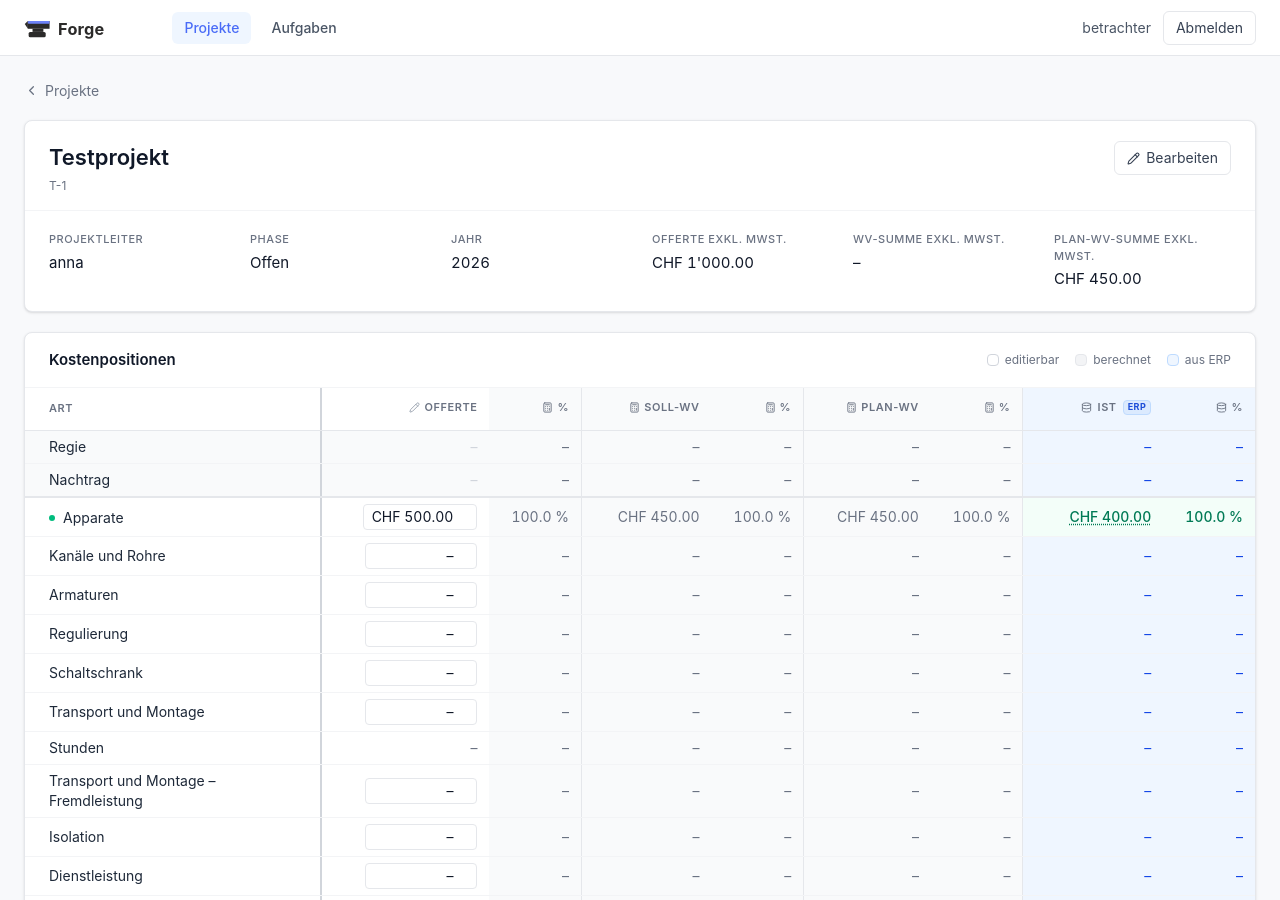
Test: ProjektDetailPage – Kopf speichern › sendet für geleerte optionale Felder explizit null
This screenshot has width=1280, height=900.
Click the button "Bearbeiten" at [1173, 158], box [1114,141,1231,175]
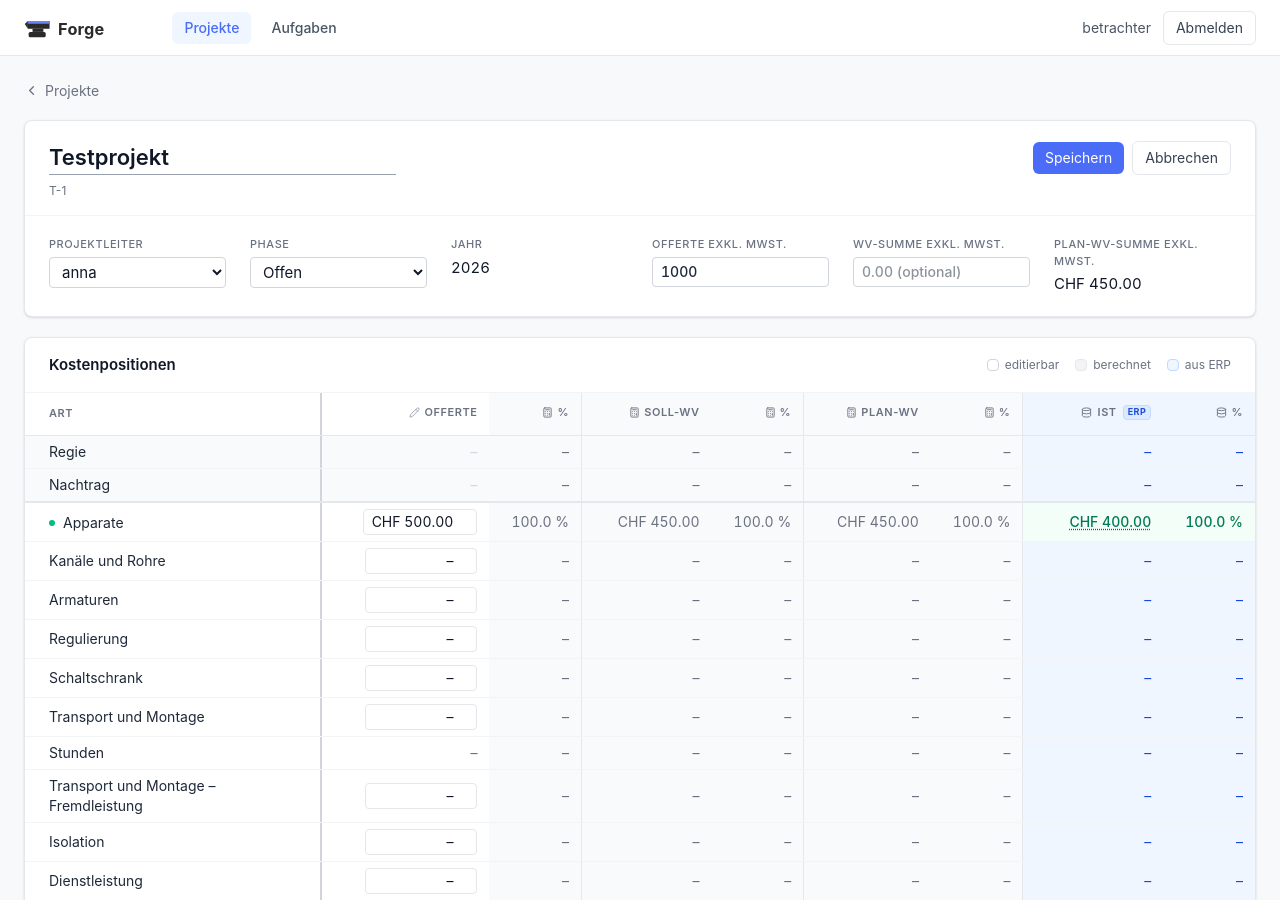
Select "– kein –" in the dropdown showing "anna" below "Projektleiter" at [138, 272], box [49,256,226,288]
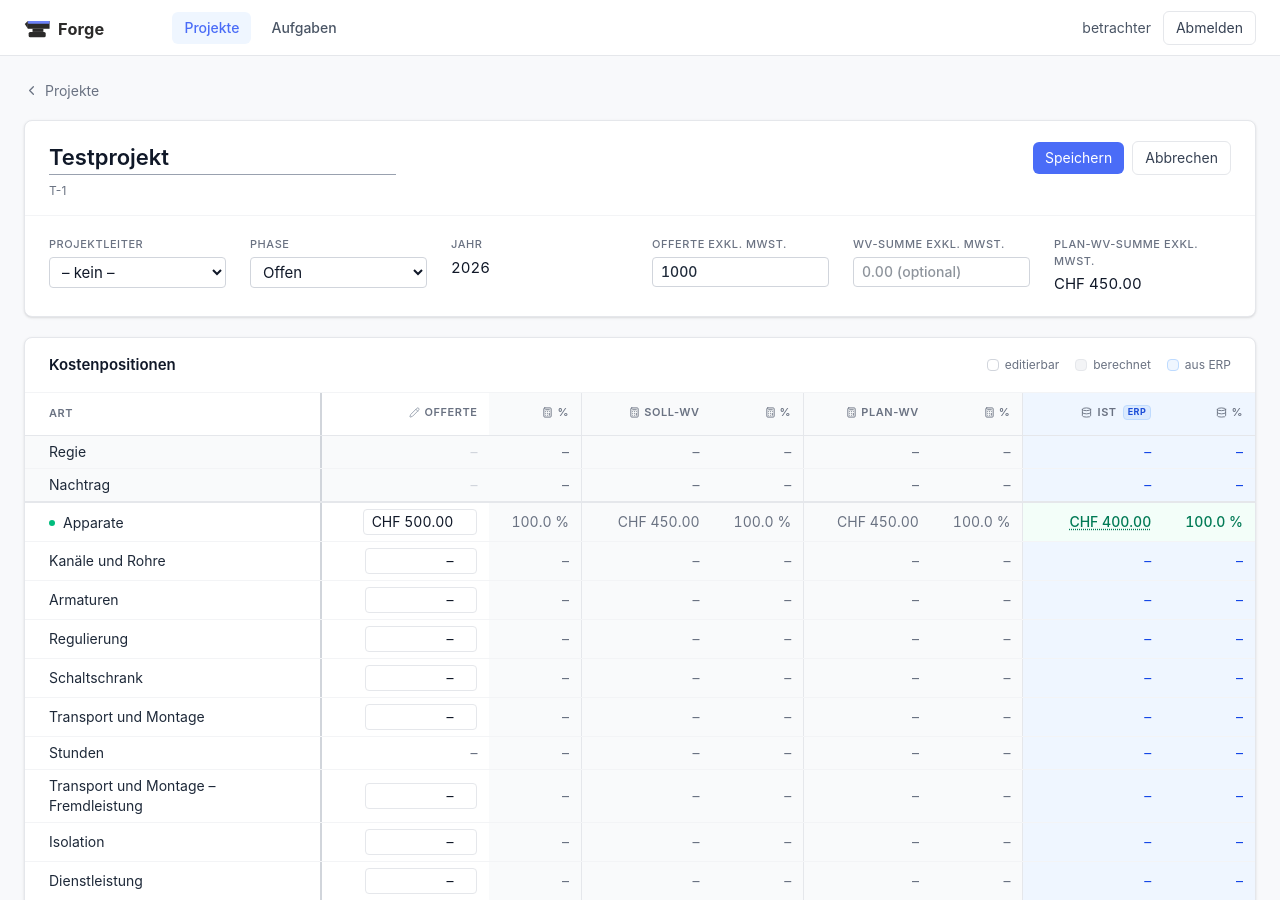
Click the button "Speichern" at [1079, 158], box [1033,142,1124,174]
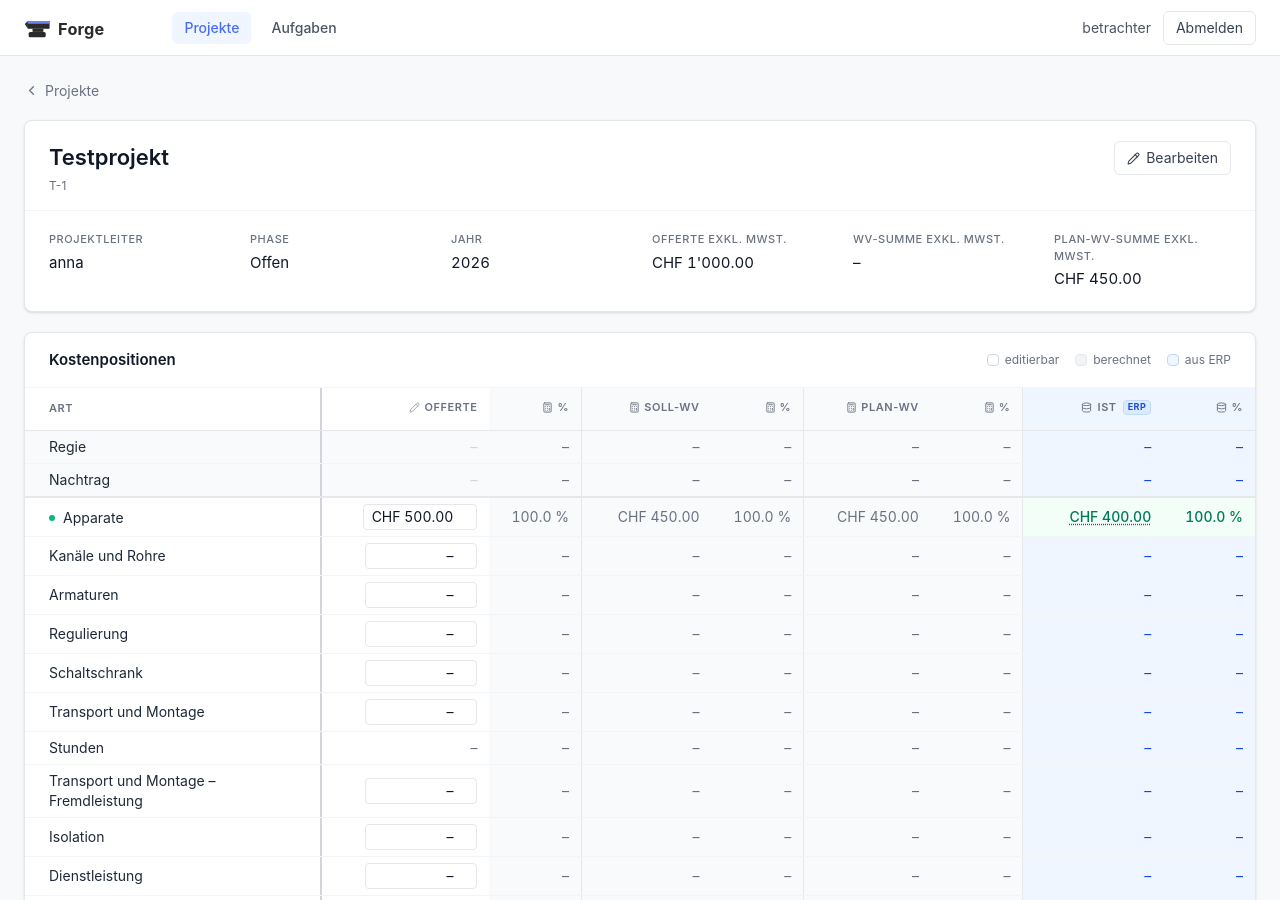
Result: the button "Bearbeiten" is shown at [1114,141,1231,175]
